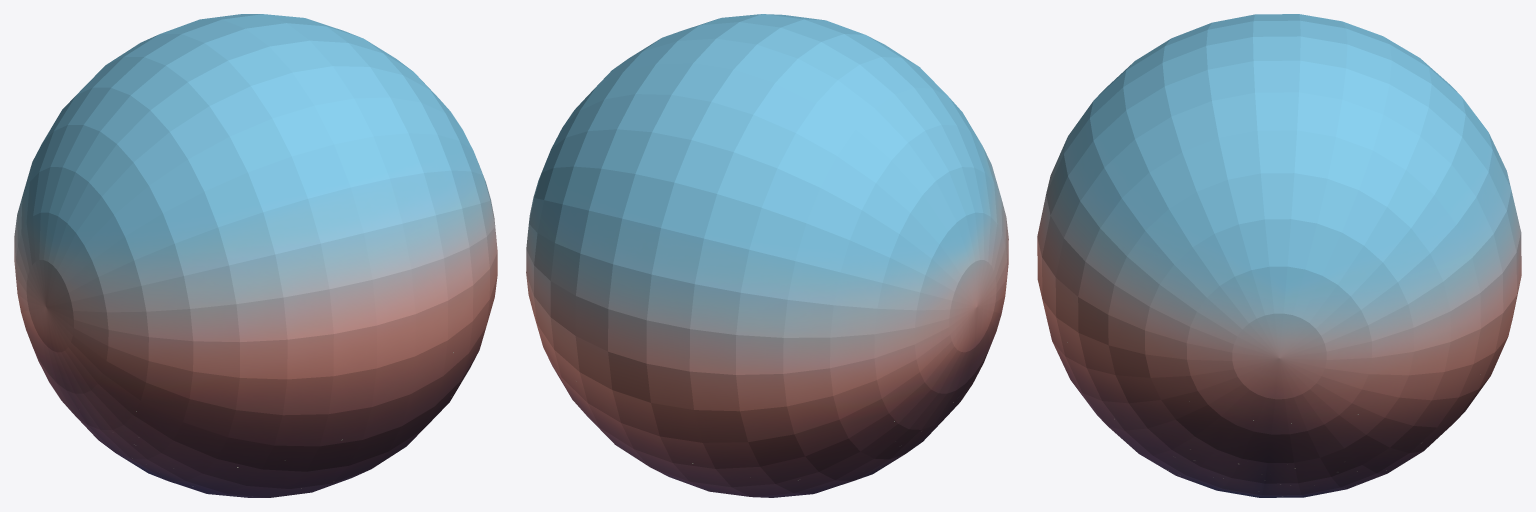
The model's file is Skybox.glb.
The picture shows the model from 3 angles, left to right: view 1: azimuth 30°, elevation 25°; view 2: azimuth 150°, elevation 25°; view 3: azimuth 270°, elevation 25°; orthographic projection.
Parts seen in each view (by area): view 1: skybox; view 2: skybox; view 3: skybox.
Boxes of the visible parts, box(x1,y1,x2,y2) form: skybox: box(14, 14, 497, 497); skybox: box(526, 14, 1008, 497); skybox: box(1037, 14, 1521, 497).
Bounding box in the file's own units: 5000 × 5000 × 5000.
1 material, 1 textured.
